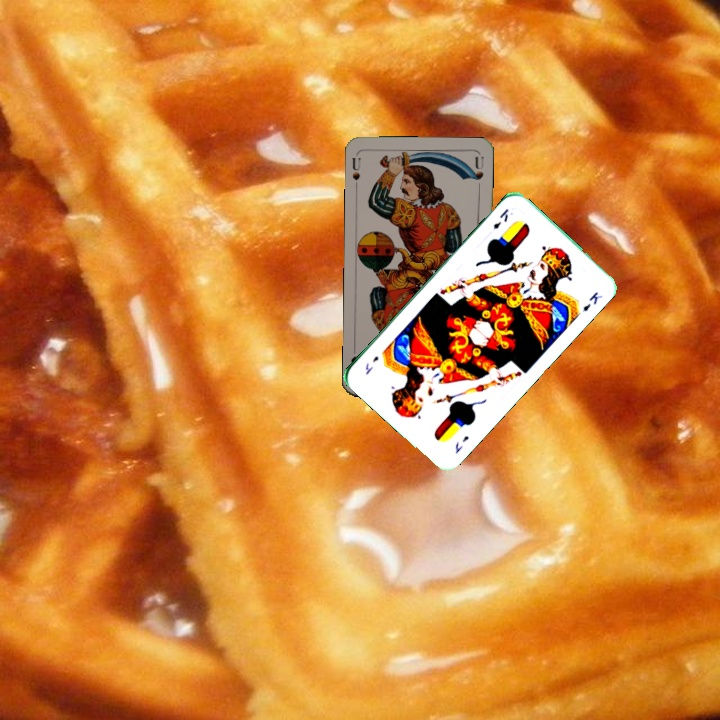EK: (489, 204, 511, 232), (451, 432, 471, 456)
SU: (348, 153, 363, 183)
